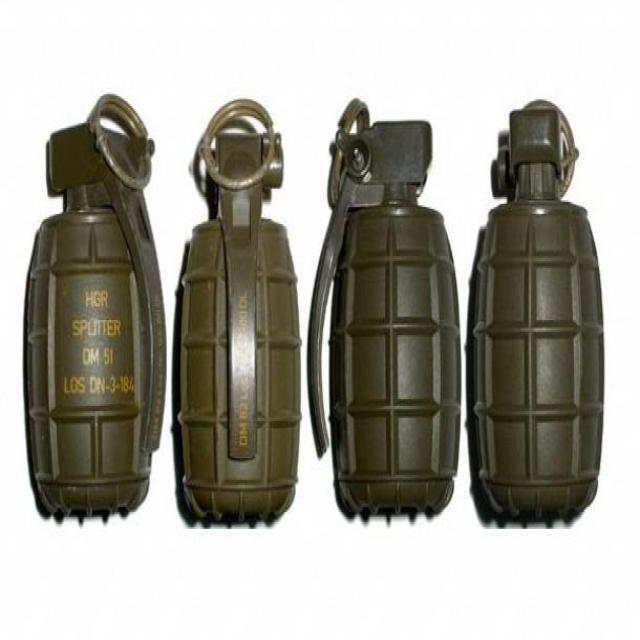grenade: (308, 106, 466, 532), (24, 94, 168, 530), (470, 102, 607, 533), (177, 101, 308, 537)
